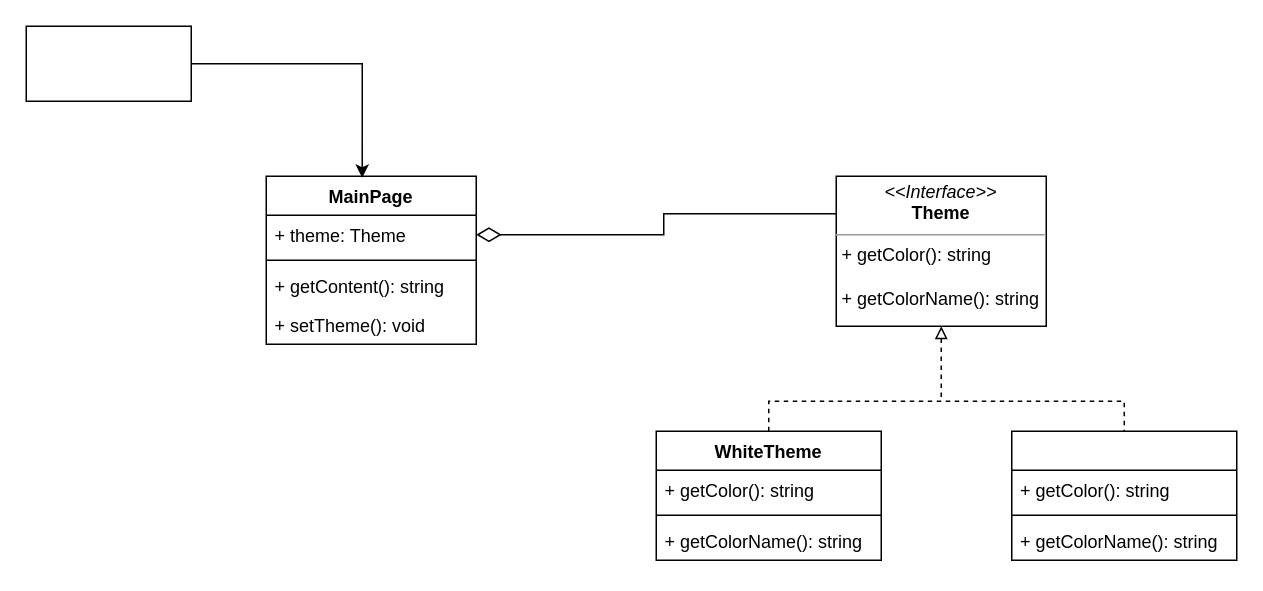
Image size: 1263x591. Some labels were removed from this diagram. Each missing label, with the box of its shape:
Client: (25, 25, 191, 101)
DarkTheme: (1010, 430, 1237, 560)
